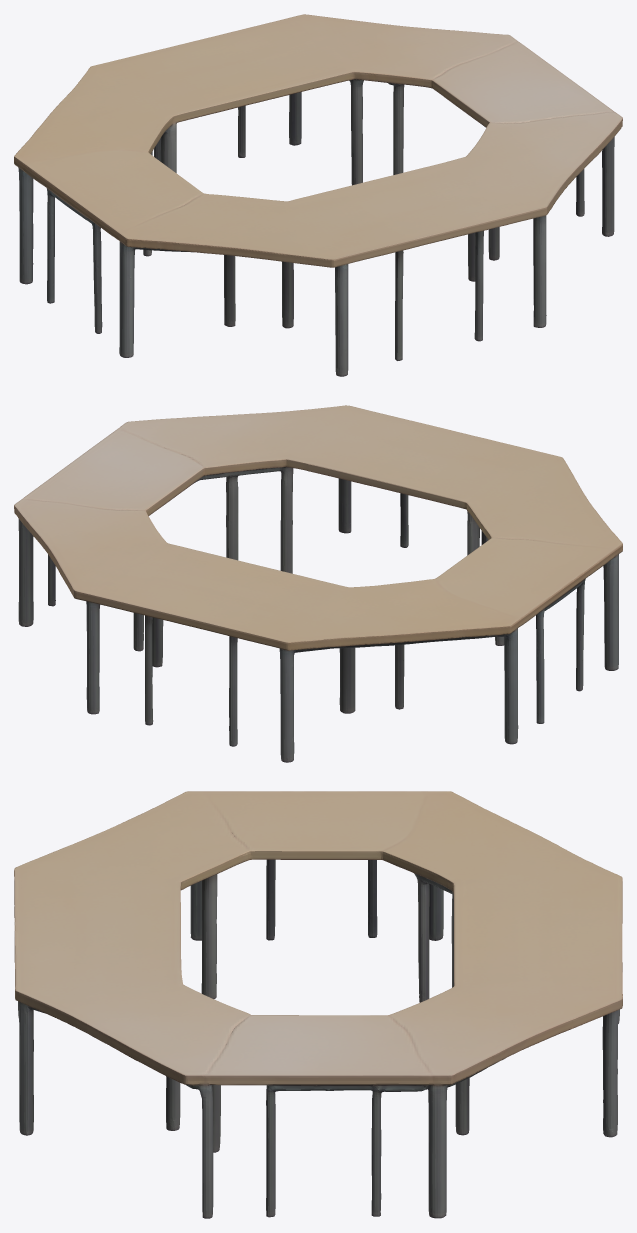
File: multidiffusion_sam3d.glb
3 views of the same model, one above another, from view 1: azimuth 30°, elevation 25°; view 2: azimuth 150°, elevation 25°; view 3: azimuth 270°, elevation 25° (orthographic). The views are drawn at different scales.
Parts seen in each view (by area): view 1: world; view 2: world; view 3: world.
Part boxes in pixels (x1=…): world: x1=14, y1=14, x2=622, y2=376; world: x1=14, y1=405, x2=622, y2=762; world: x1=14, y1=791, x2=622, y2=1218.
Size of the model in its own units: 1 by 0.2377 by 0.9043.
